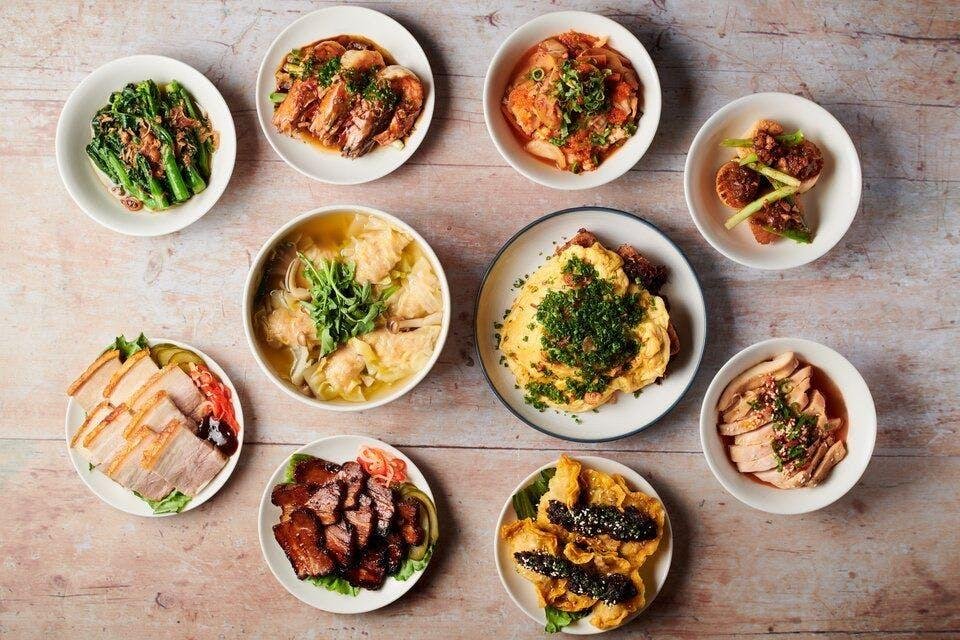Braised Crucian Carp: (473, 209, 704, 442), (243, 207, 445, 412), (54, 54, 239, 236), (255, 5, 435, 186), (482, 10, 662, 191), (257, 435, 438, 614), (63, 338, 244, 516), (698, 338, 876, 515), (682, 92, 860, 268), (492, 455, 671, 630)
